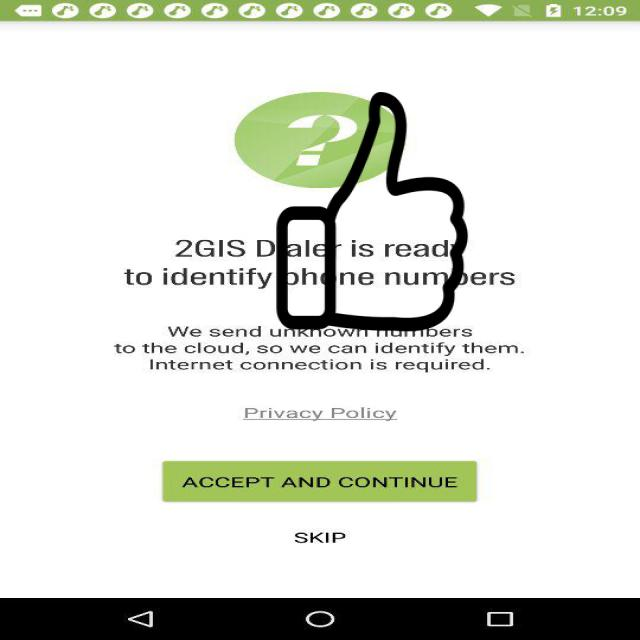privacy zuckering: (274, 92, 470, 331)
